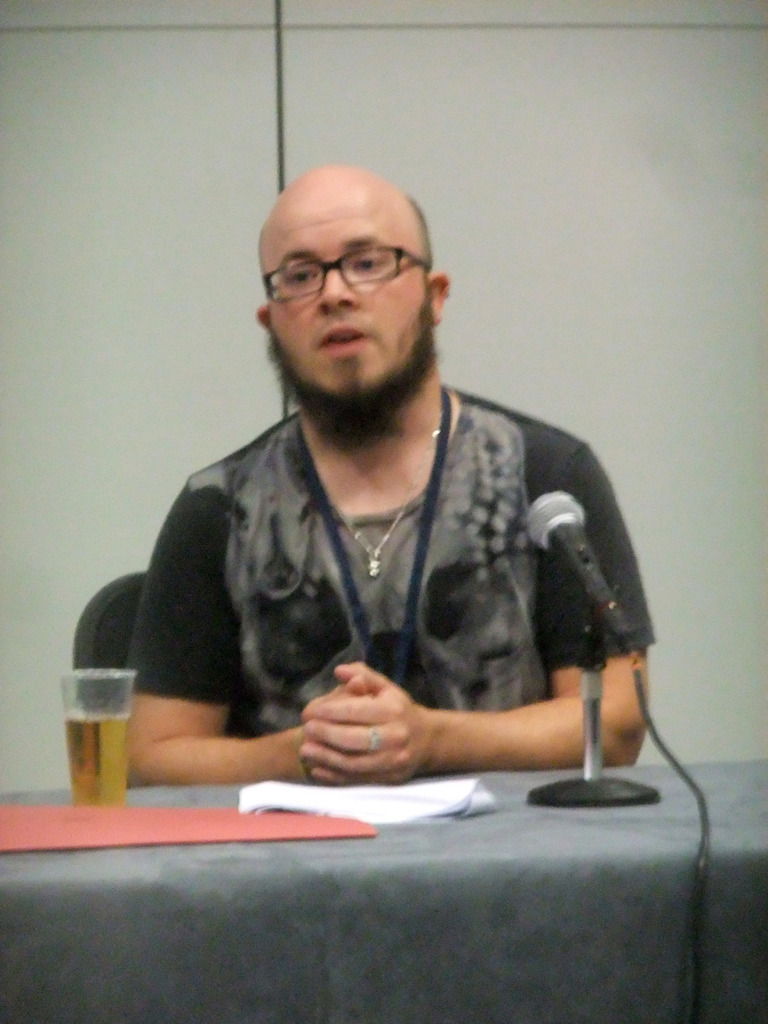Beer: (61, 711, 131, 807)
